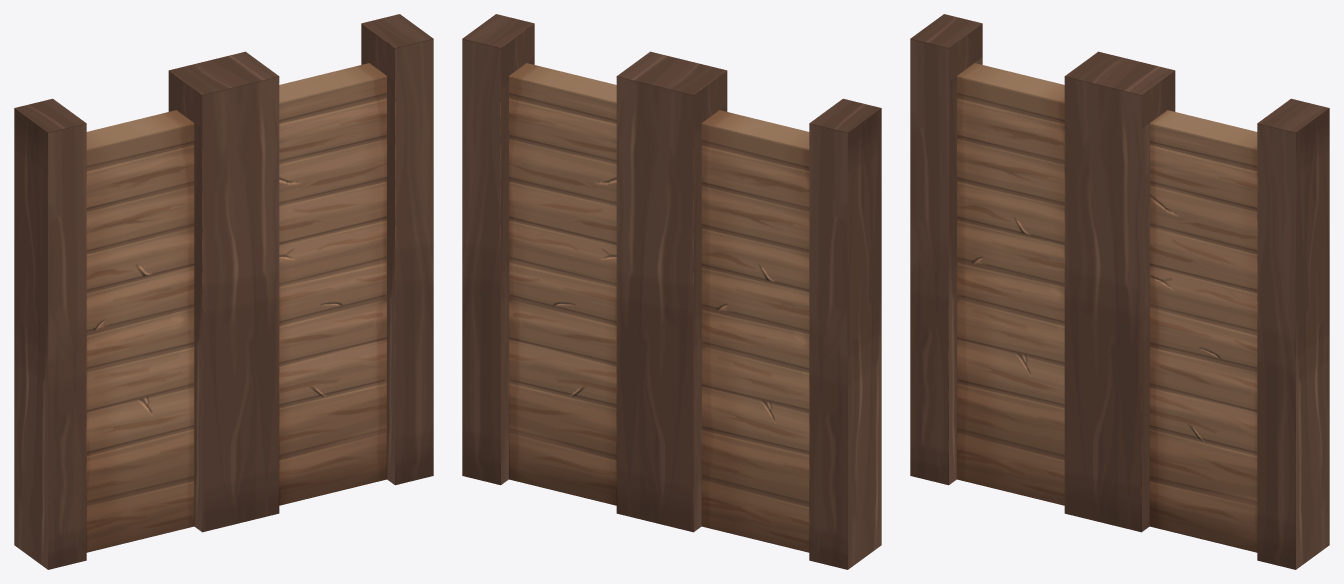
Rendered from big_fence.gltf.
3 views of the same model, side by side, from view 1: azimuth 30°, elevation 25°; view 2: azimuth 150°, elevation 25°; view 3: azimuth 330°, elevation 25° (orthographic).
Visible parts, largest first — view 1: BigFence; view 2: BigFence; view 3: BigFence.
Part boxes in pixels (box(x1,y1,x2,y2)): BigFence: box(14, 14, 433, 569); BigFence: box(462, 14, 881, 569); BigFence: box(910, 14, 1329, 569).
Size of what is drawn, in the model's own units: 2 by 2.17 by 0.3035.
1 material, 1 textured.
